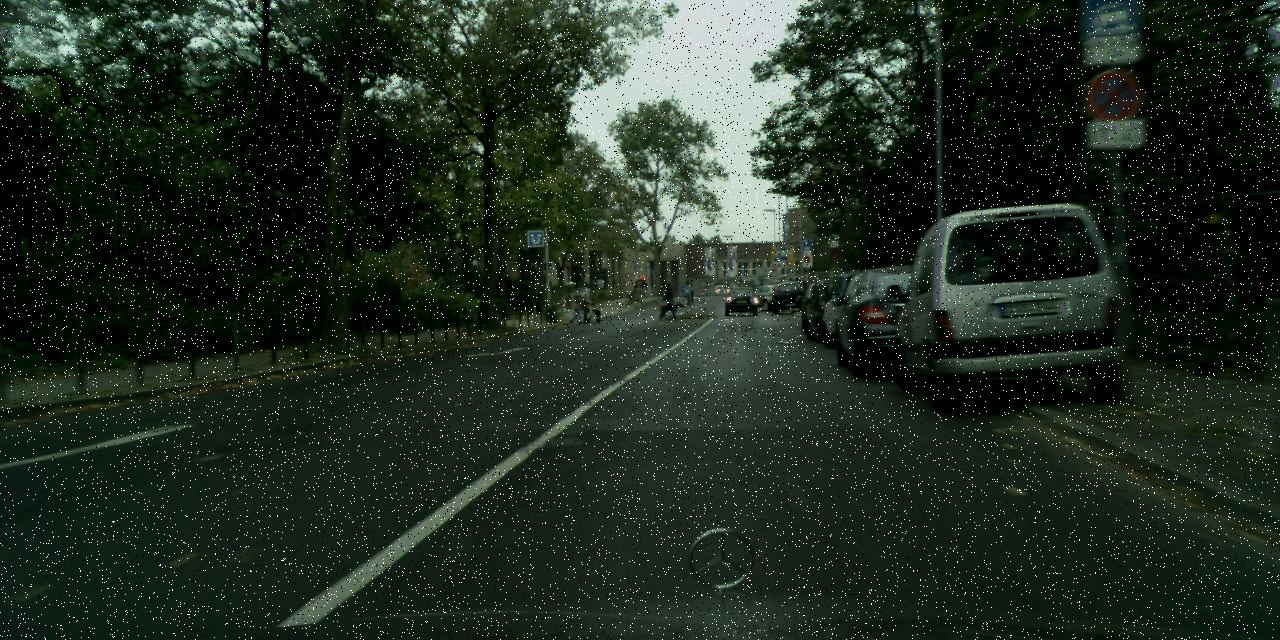ped: (571, 286, 586, 322), (662, 282, 676, 320), (580, 292, 592, 322), (634, 274, 648, 288), (643, 300, 645, 302)
